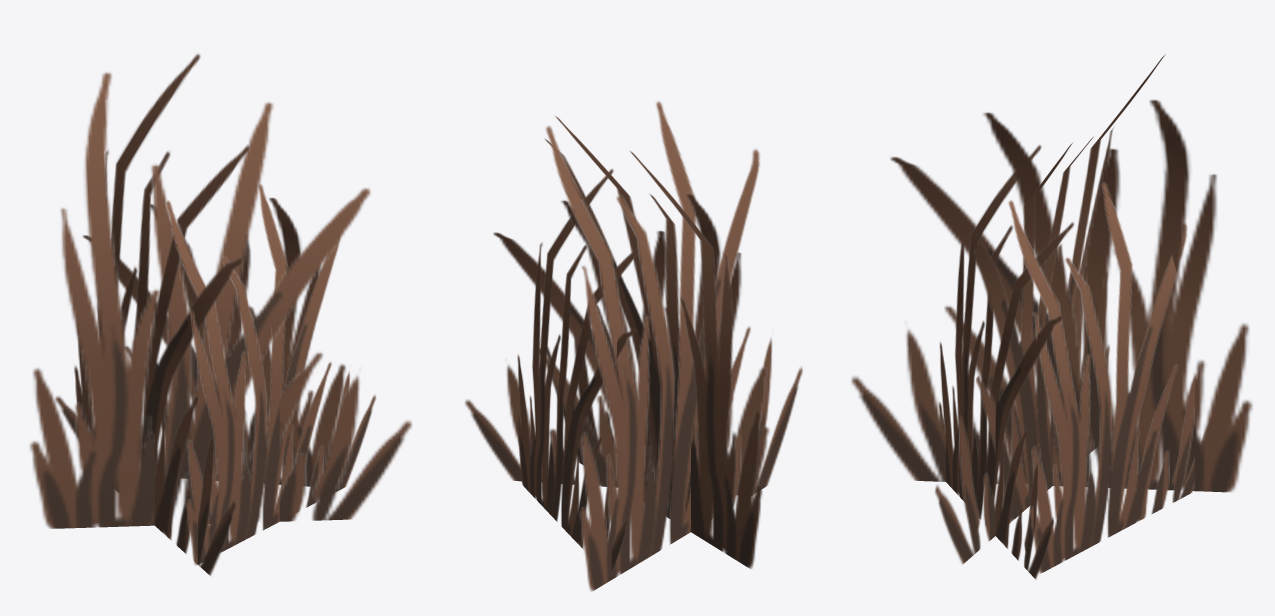
Rendered from env_grass3_painty_01_v1.glb.
The picture shows the model from 3 angles, left to right: view 1: azimuth 30°, elevation 25°; view 2: azimuth 150°, elevation 25°; view 3: azimuth 270°, elevation 25°; orthographic projection. The views are drawn at different scales.
Parts seen in each view (by area): view 1: grass_plane.001; view 2: grass_plane.001; view 3: grass_plane.001.
Boxes of the visible parts, <box> form: grass_plane.001: <box>29,53,412,575</box>; grass_plane.001: <box>465,101,802,591</box>; grass_plane.001: <box>851,54,1252,579</box>.
Size of the model in its own units: 0.6405 by 0.7322 by 0.6448.
Materials: 1 (1 with a texture image).
